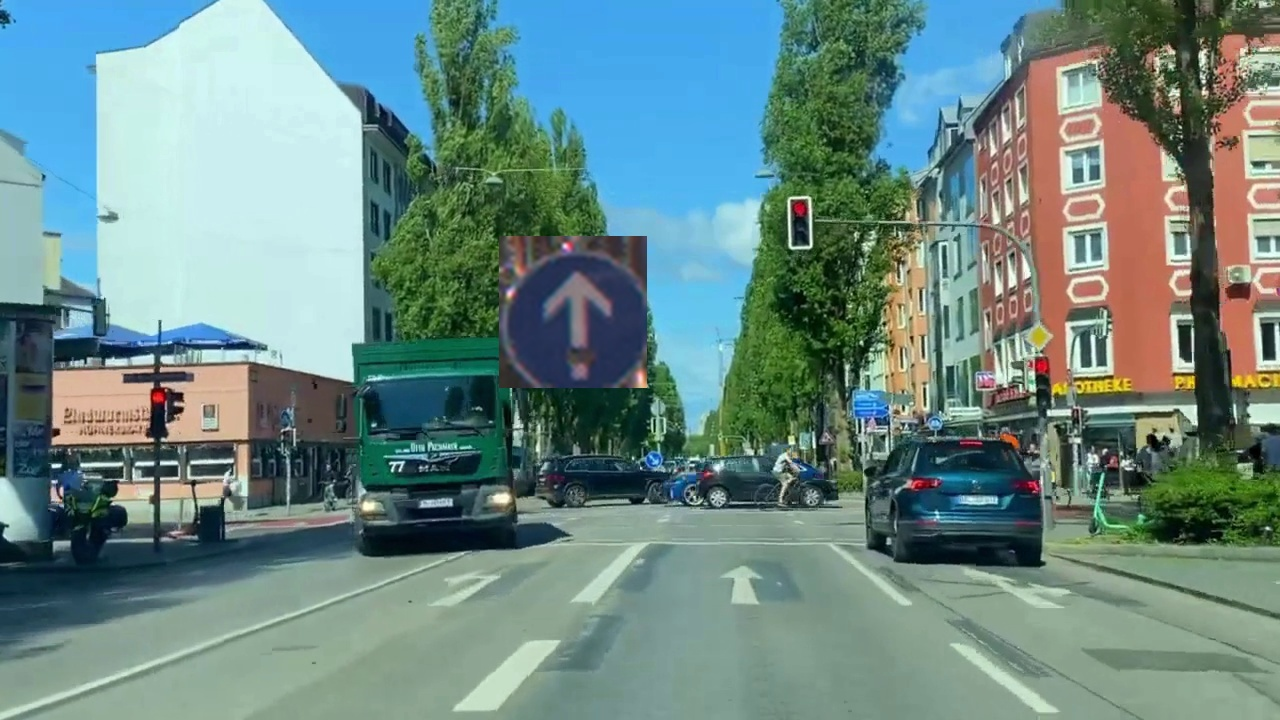Ahead only: (499, 236, 647, 388)
